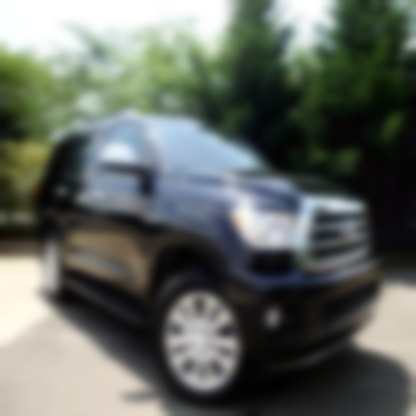Vehicle: (34, 106, 382, 404)
